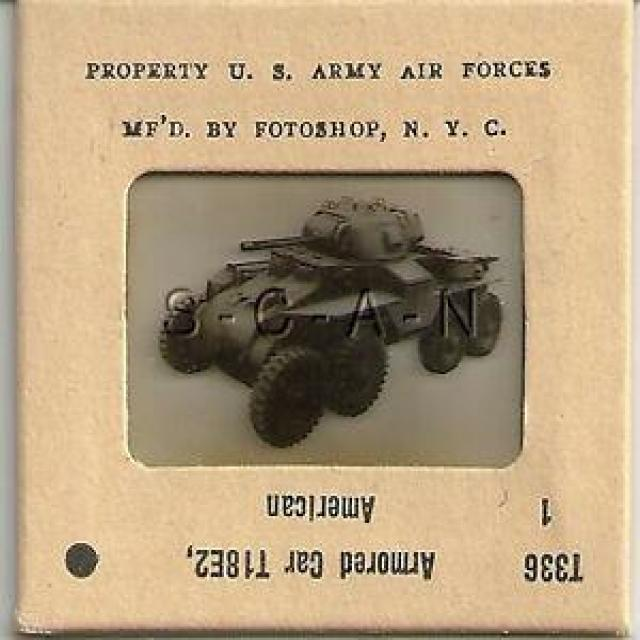Tanks: (145, 188, 512, 461)
